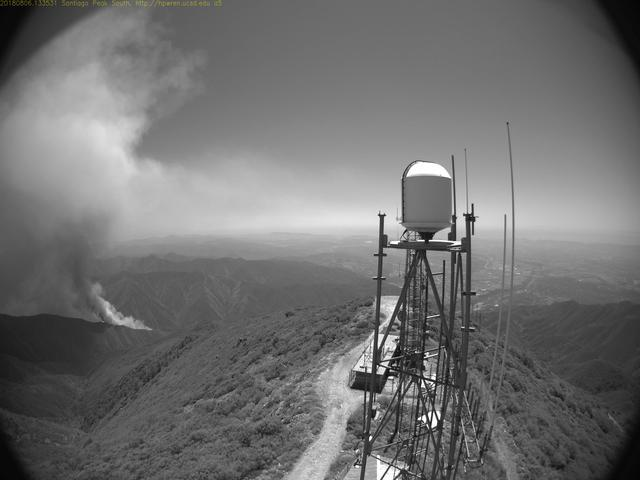smoke: (1, 71, 158, 333)
